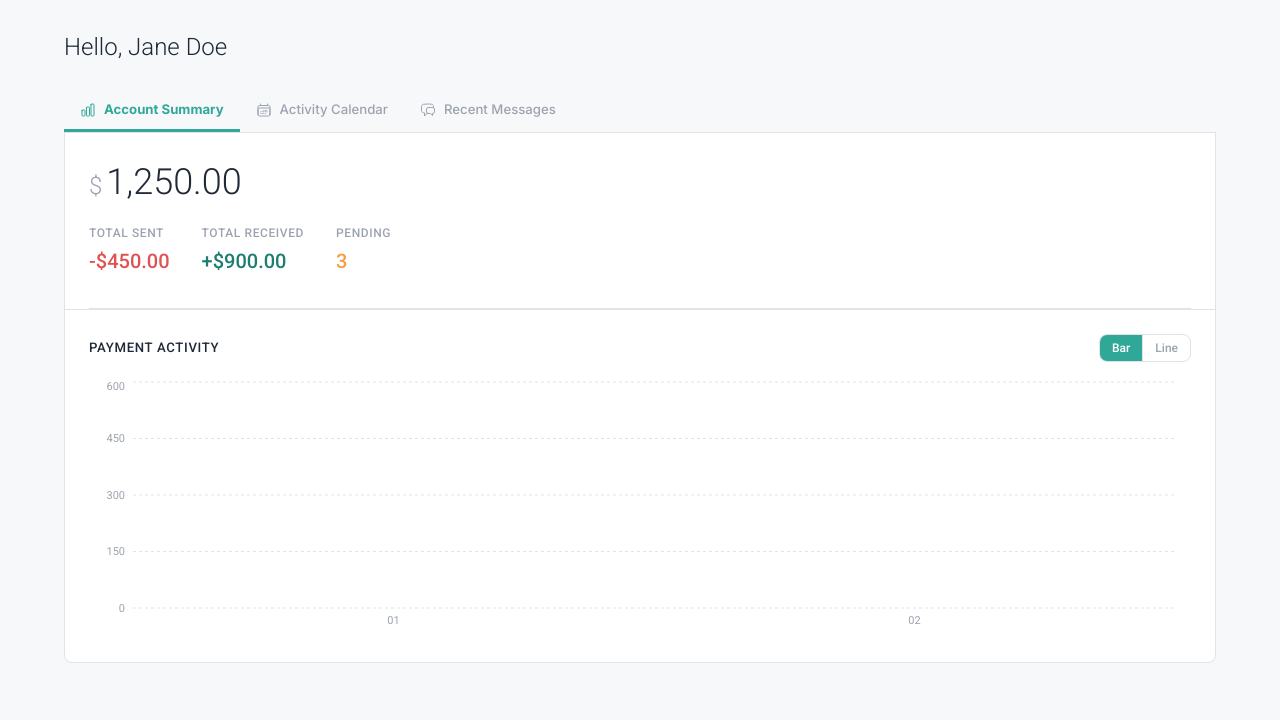
Test: DashboardClient — required elements › Activity Calendar tab shows day-name headers
Click the tab "Activity Calendar": click(322, 110) top-left (240, 88), bottom-right (404, 132)
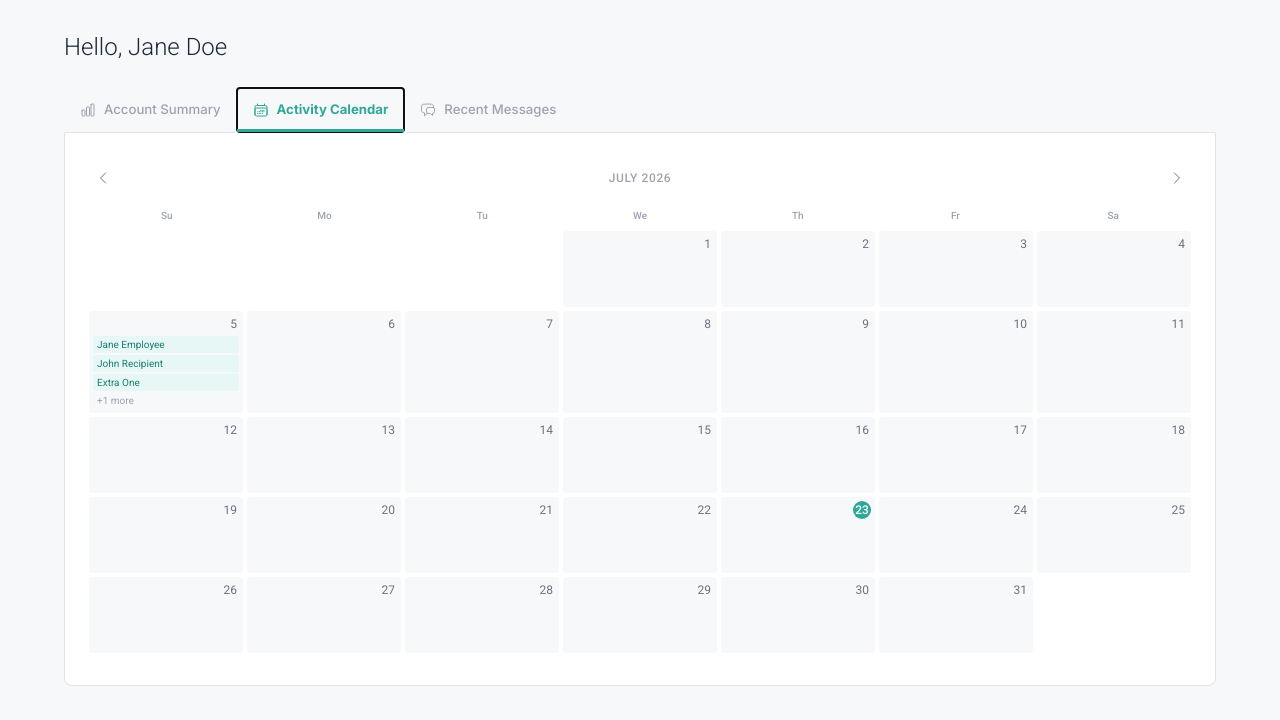
Result: the text "Su" is shown at top-left (161, 210), bottom-right (173, 221)
Result: the text "Mo" is shown at top-left (317, 210), bottom-right (332, 221)
